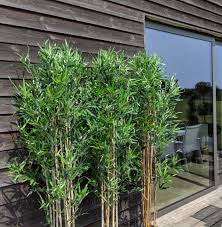bamboo: (19, 50, 181, 224)
